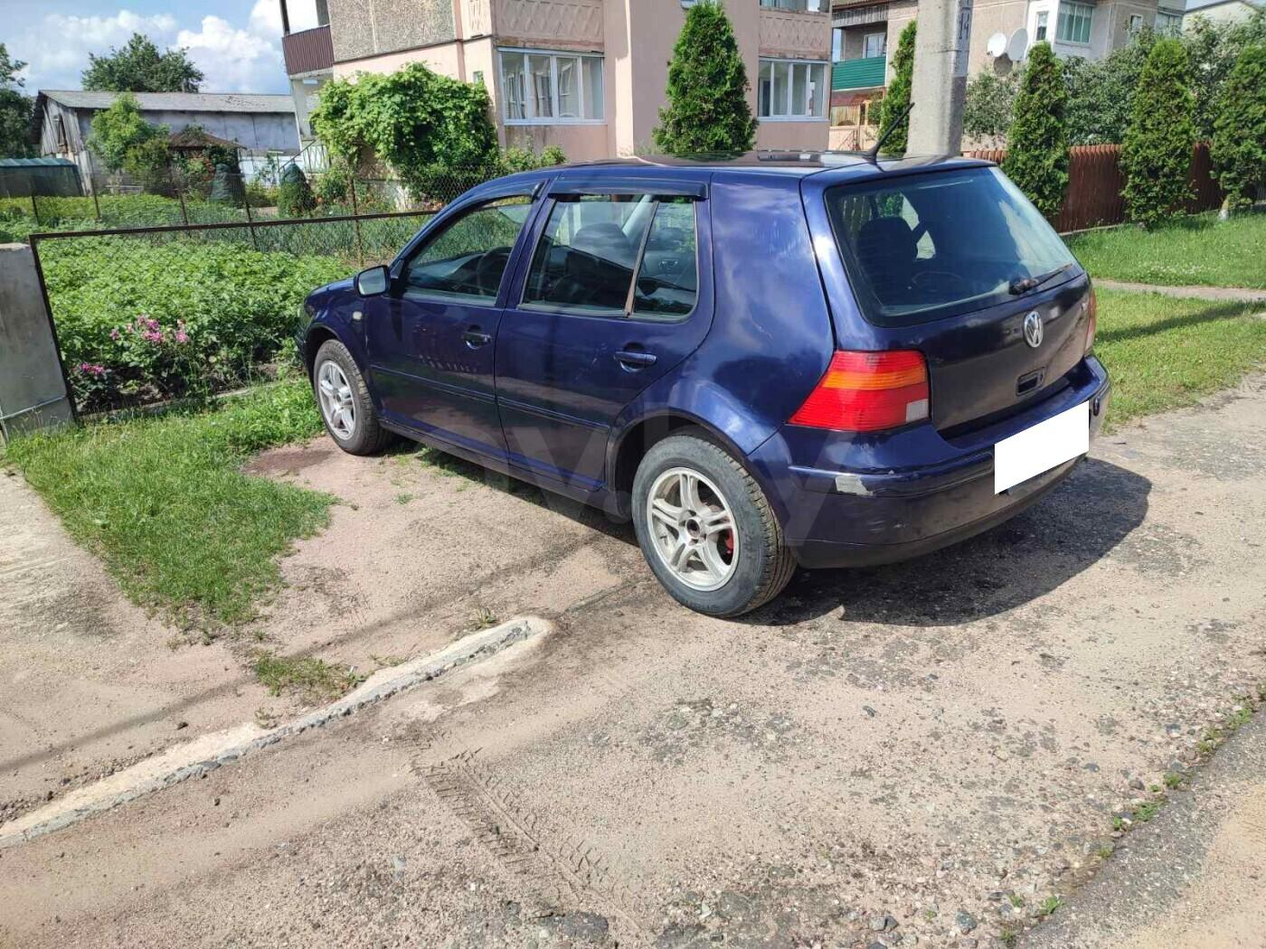Golf_1997-2006: (297, 168, 1105, 610)
